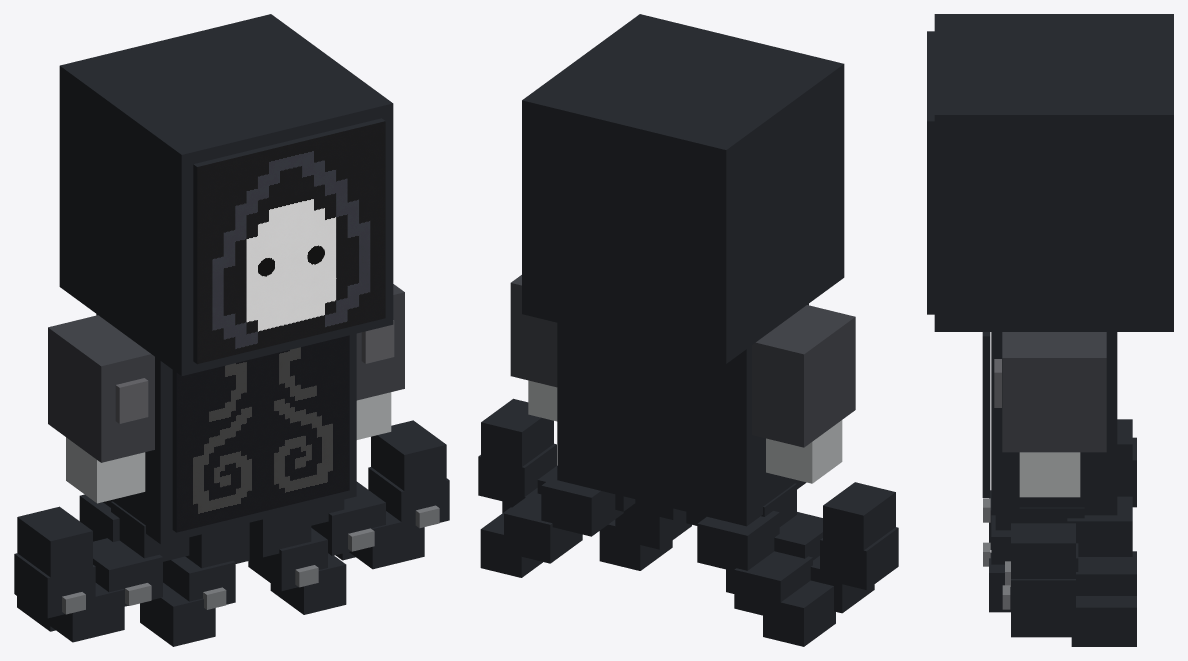
File: takosan.glb
The picture shows the model from 3 angles, left to right: view 1: azimuth 30°, elevation 25°; view 2: azimuth 150°, elevation 25°; view 3: azimuth 270°, elevation 25°; orthographic projection. The views are drawn at different scales.
Visible parts, largest first — view 1: TakosanVoxel_Root_MobileMesh, VoxelRig_ArmSecondary_MobileMesh, VoxelRig_Locomotion_00_MobileMesh, VoxelRig_Locomotion_03_MobileMesh, VoxelRig_Locomotion_01_MobileMesh, VoxelRig_Locomotion_02_MobileMesh, VoxelRig_ArmPrimary_MobileMesh, VoxelRig_Locomotion_04_MobileMesh; view 2: TakosanVoxel_Root_MobileMesh, VoxelRig_ArmSecondary_MobileMesh, VoxelRig_Locomotion_00_MobileMesh, VoxelRig_Locomotion_04_MobileMesh, VoxelRig_Locomotion_05_MobileMesh, VoxelRig_Locomotion_03_MobileMesh, VoxelRig_ArmPrimary_MobileMesh, VoxelRig_Locomotion_02_MobileMesh; view 3: TakosanVoxel_Root_MobileMesh, VoxelRig_ArmPrimary_MobileMesh, VoxelRig_Locomotion_03_MobileMesh, VoxelRig_Locomotion_05_MobileMesh, VoxelRig_Locomotion_02_MobileMesh, VoxelRig_Locomotion_04_MobileMesh.
Boxes of the visible parts, box(x1,y1,x2,y2) form: TakosanVoxel_Root_MobileMesh: box(59, 14, 393, 544); VoxelRig_ArmSecondary_MobileMesh: box(48, 315, 154, 503); VoxelRig_Locomotion_00_MobileMesh: box(14, 501, 189, 642); VoxelRig_Locomotion_03_MobileMesh: box(311, 420, 449, 569); VoxelRig_Locomotion_01_MobileMesh: box(140, 522, 249, 646); VoxelRig_Locomotion_02_MobileMesh: box(248, 507, 346, 614); VoxelRig_ArmPrimary_MobileMesh: box(356, 284, 404, 439); VoxelRig_Locomotion_04_MobileMesh: box(17, 494, 119, 631); TakosanVoxel_Root_MobileMesh: box(522, 14, 844, 526); VoxelRig_ArmSecondary_MobileMesh: box(752, 305, 855, 483); VoxelRig_Locomotion_00_MobileMesh: box(761, 482, 898, 613); VoxelRig_Locomotion_04_MobileMesh: box(697, 511, 835, 646); VoxelRig_Locomotion_05_MobileMesh: box(480, 474, 623, 577); VoxelRig_Locomotion_03_MobileMesh: box(478, 398, 635, 512); VoxelRig_ArmPrimary_MobileMesh: box(510, 275, 557, 421); VoxelRig_Locomotion_02_MobileMesh: box(599, 499, 691, 570); TakosanVoxel_Root_MobileMesh: box(927, 14, 1173, 515); VoxelRig_ArmPrimary_MobileMesh: box(994, 332, 1106, 497); VoxelRig_Locomotion_03_MobileMesh: box(1002, 507, 1084, 637); VoxelRig_Locomotion_05_MobileMesh: box(1067, 496, 1136, 646); VoxelRig_Locomotion_02_MobileMesh: box(983, 515, 1019, 612); VoxelRig_Locomotion_04_MobileMesh: box(1117, 419, 1136, 507).
Bounding box in the file's own units: 2.09 × 2.57 × 1.14.
3 materials, 2 textured.
